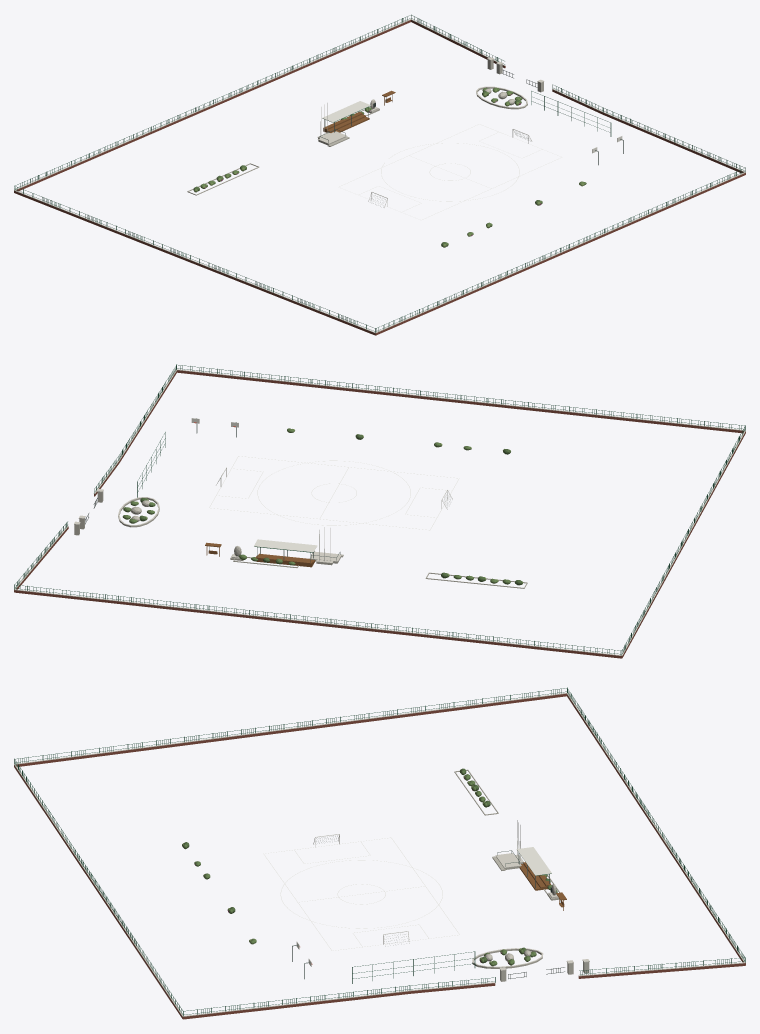
The picture shows the model from 3 angles, top to bottom: view 1: azimuth 30°, elevation 25°; view 2: azimuth 150°, elevation 25°; view 3: azimuth 270°, elevation 25°; orthographic projection. The views are drawn at different scales.
Visible parts, largest first — view 1: prop_boundary-fence, prop_wooden-deck-canopy, prop_flowerbeds, prop_entry-rockery-island; view 2: prop_boundary-fence, prop_flowerbeds, prop_wooden-deck-canopy, prop_entry-rockery-island, prop_field-lines; view 3: prop_boundary-fence, prop_wooden-deck-canopy, prop_entry-rockery-island, prop_flowerbeds, prop_field-lines.
Boxes of the visible parts, x1,y1,x2,y2 form: prop_boundary-fence: (14, 14, 745, 335); prop_wooden-deck-canopy: (322, 101, 370, 132); prop_flowerbeds: (187, 107, 586, 247); prop_entry-rockery-island: (476, 86, 527, 109); prop_boundary-fence: (14, 364, 745, 658); prop_flowerbeds: (233, 428, 527, 588); prop_wooden-deck-canopy: (254, 539, 317, 567); prop_entry-rockery-island: (118, 497, 159, 527); prop_field-lines: (209, 456, 459, 530); prop_boundary-fence: (14, 687, 745, 1019); prop_wooden-deck-canopy: (516, 847, 551, 890); prop_entry-rockery-island: (472, 947, 543, 968); prop_flowerbeds: (182, 768, 560, 944); prop_field-lines: (263, 837, 459, 950).
Bounding box in the file's own units: 144 × 8.24 × 137.
